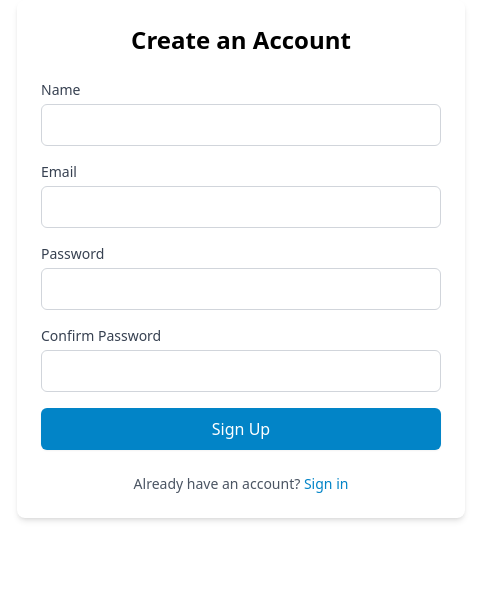
Test: Form Validation Integration › Form Submission › should handle server-side validation errors
The image size is (483, 605).
Click the button "Sign Up" at (241,429), box top-left (41, 408), bottom-right (441, 450)
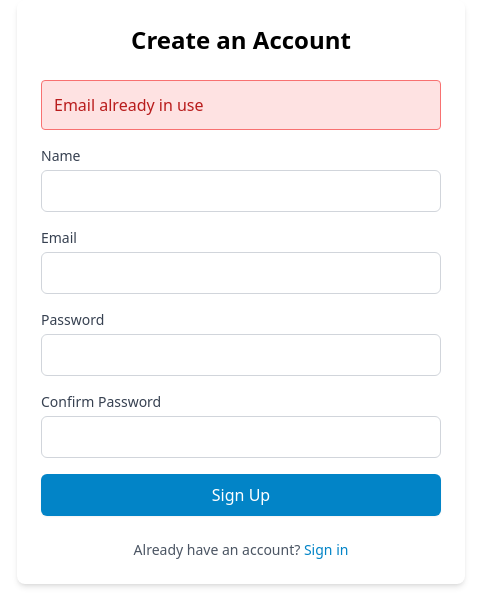
Check: the text "Email already in use" is shown, box top-left (41, 80), bottom-right (441, 130)
